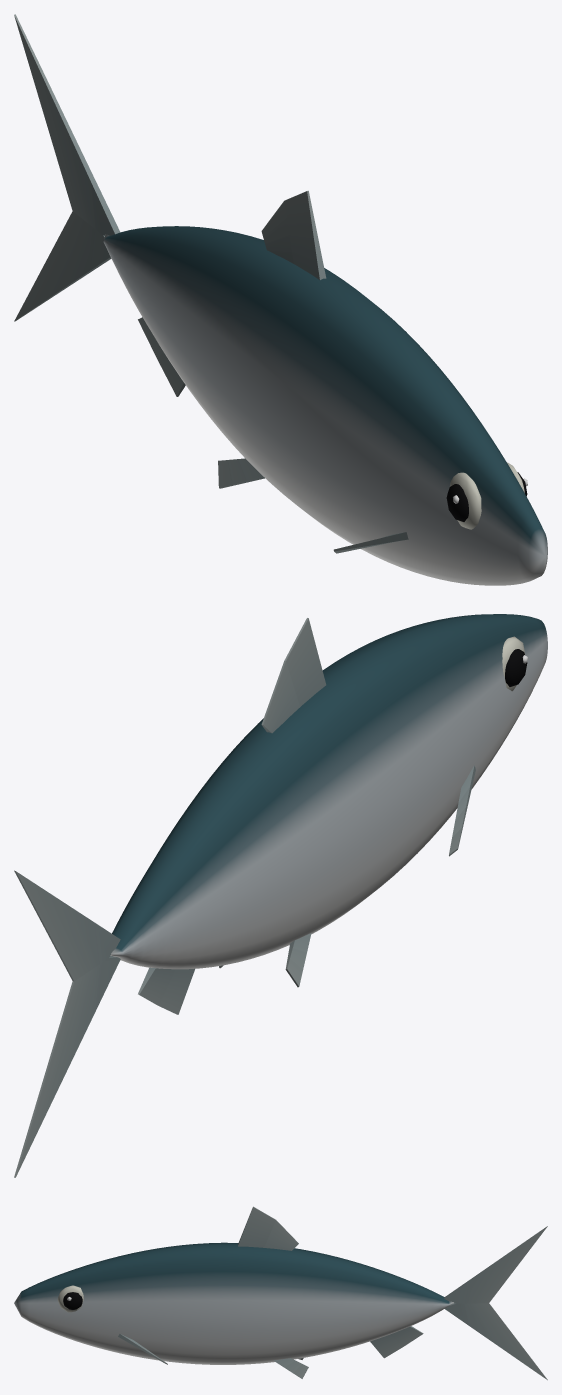
The model's file is KnightiaEocaena.fbx.
The picture shows the model from 3 angles, top to bottom: view 1: azimuth 30°, elevation 25°; view 2: azimuth 150°, elevation 25°; view 3: azimuth 270°, elevation 25°; orthographic projection. The views are drawn at different scales.
Visible parts, largest first — view 1: KnightiaEocaena; view 2: KnightiaEocaena; view 3: KnightiaEocaena.
Boxes of the visible parts, left/top/right/bottom form: KnightiaEocaena: left=14, top=14, right=547, bottom=585; KnightiaEocaena: left=14, top=614, right=547, bottom=1177; KnightiaEocaena: left=14, top=1206, right=547, bottom=1380.
Bounding box in the file's own units: 0.2201 × 0.5849 × 1.63.
